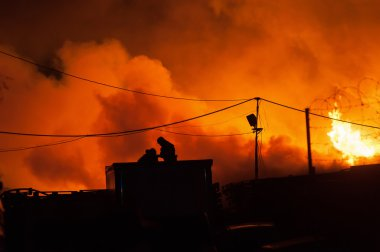fire: (322, 104, 377, 170)
